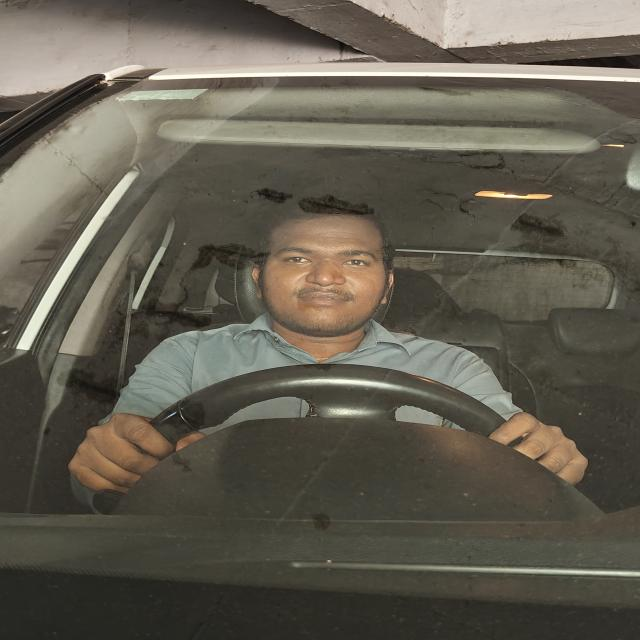no-seatbelt: (111, 275, 386, 450)
